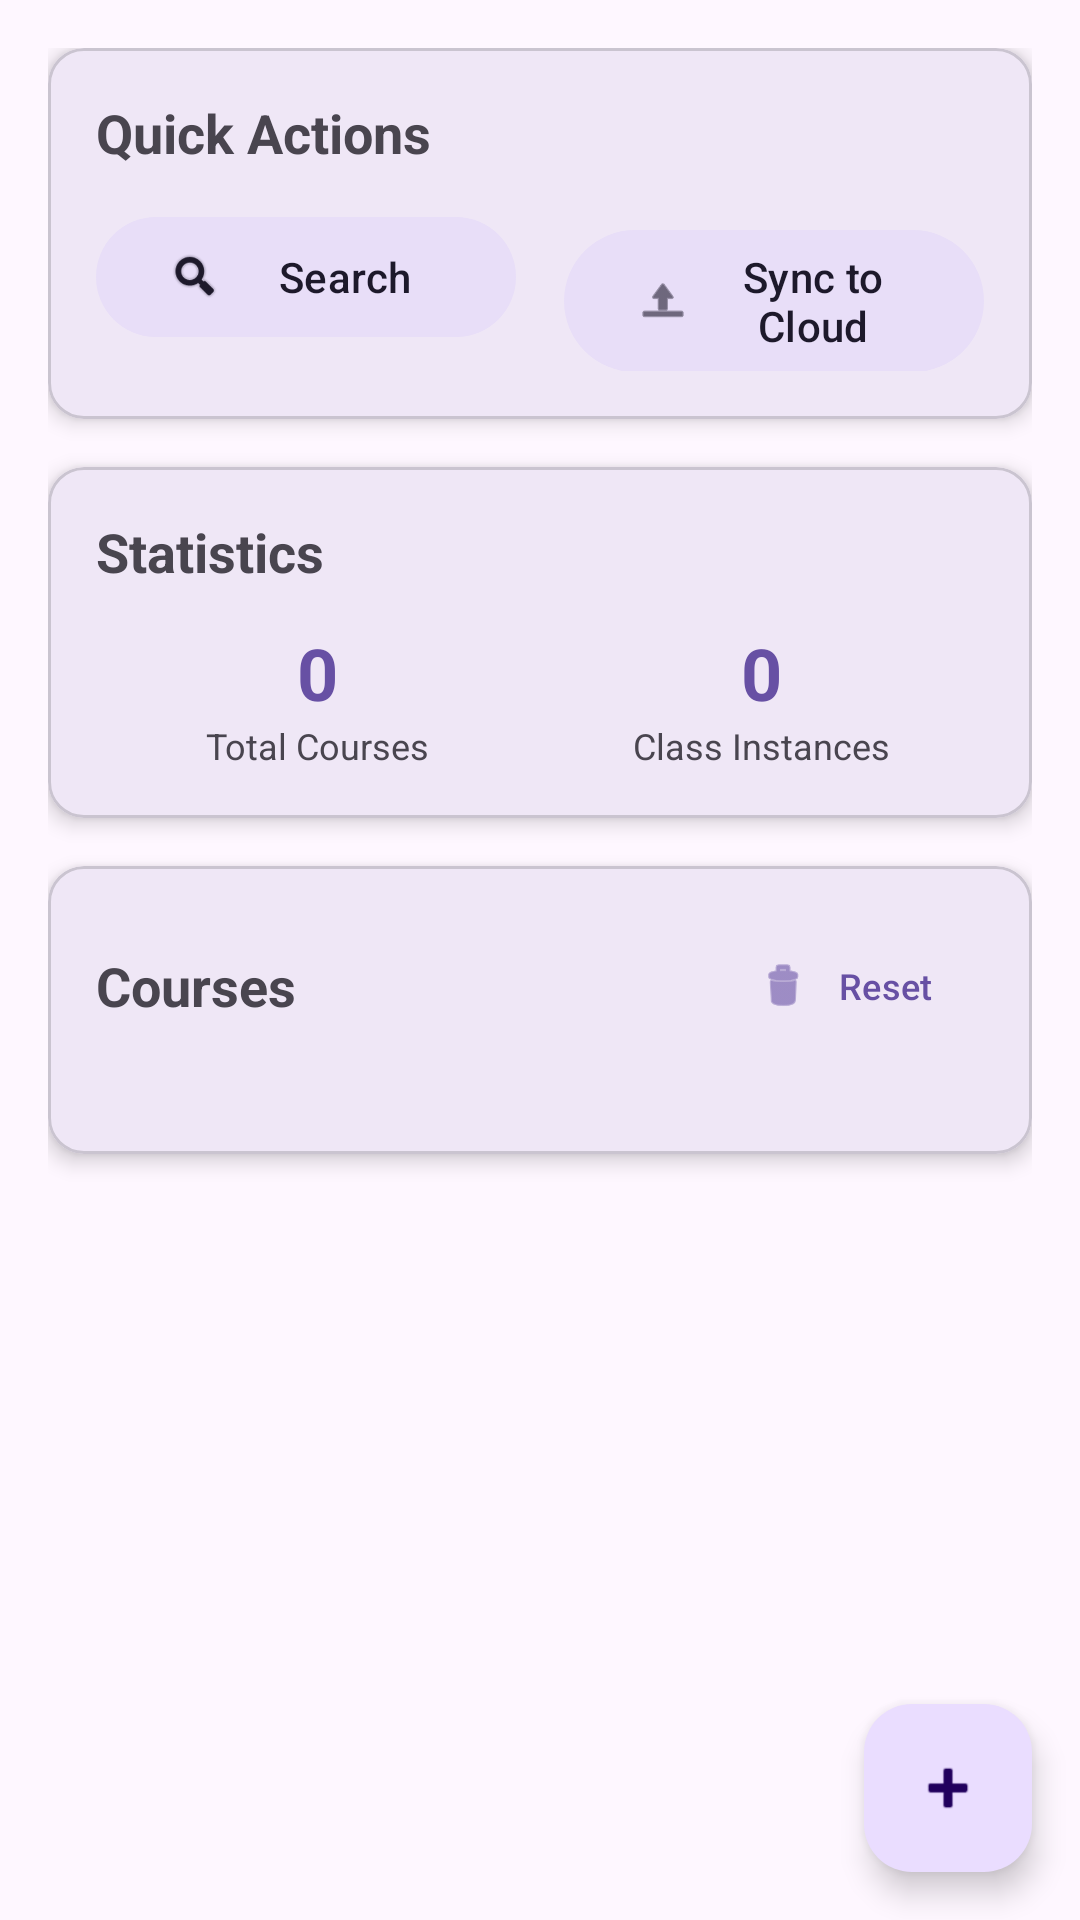

Where icons sit on this 1080*1920 app screen, as bbox(x1, y1, x2, y2):
Add new course: bbox(864, 1704, 1032, 1872)
